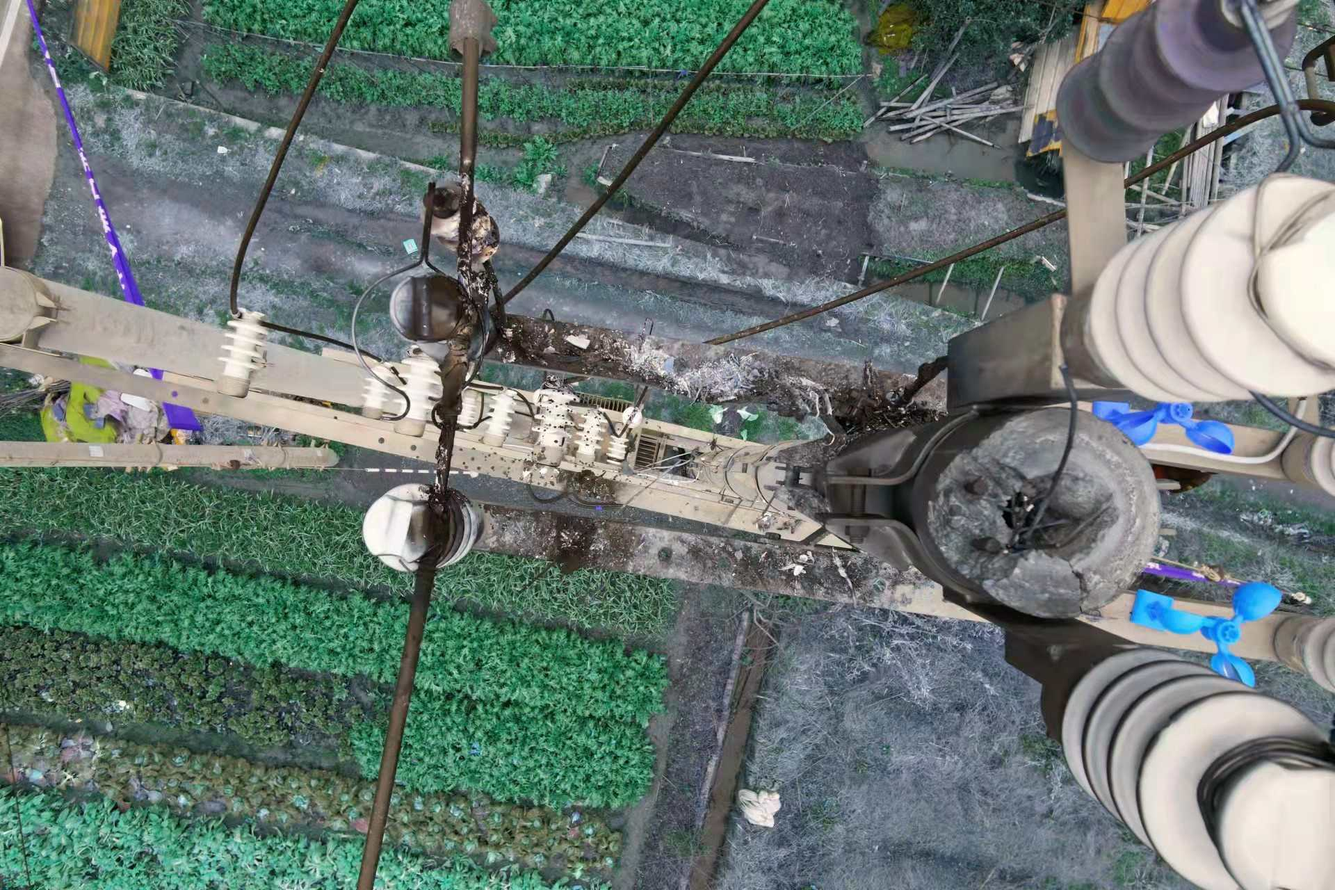severe_soiling_no_discharge_whole: (1030, 633, 1332, 888), (526, 379, 581, 468), (569, 400, 606, 469)
